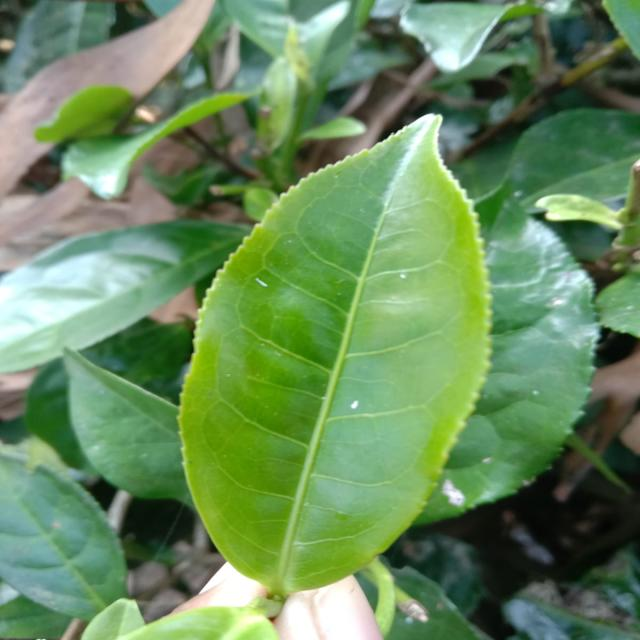Category B(2-4 days): (171, 99, 500, 594)
